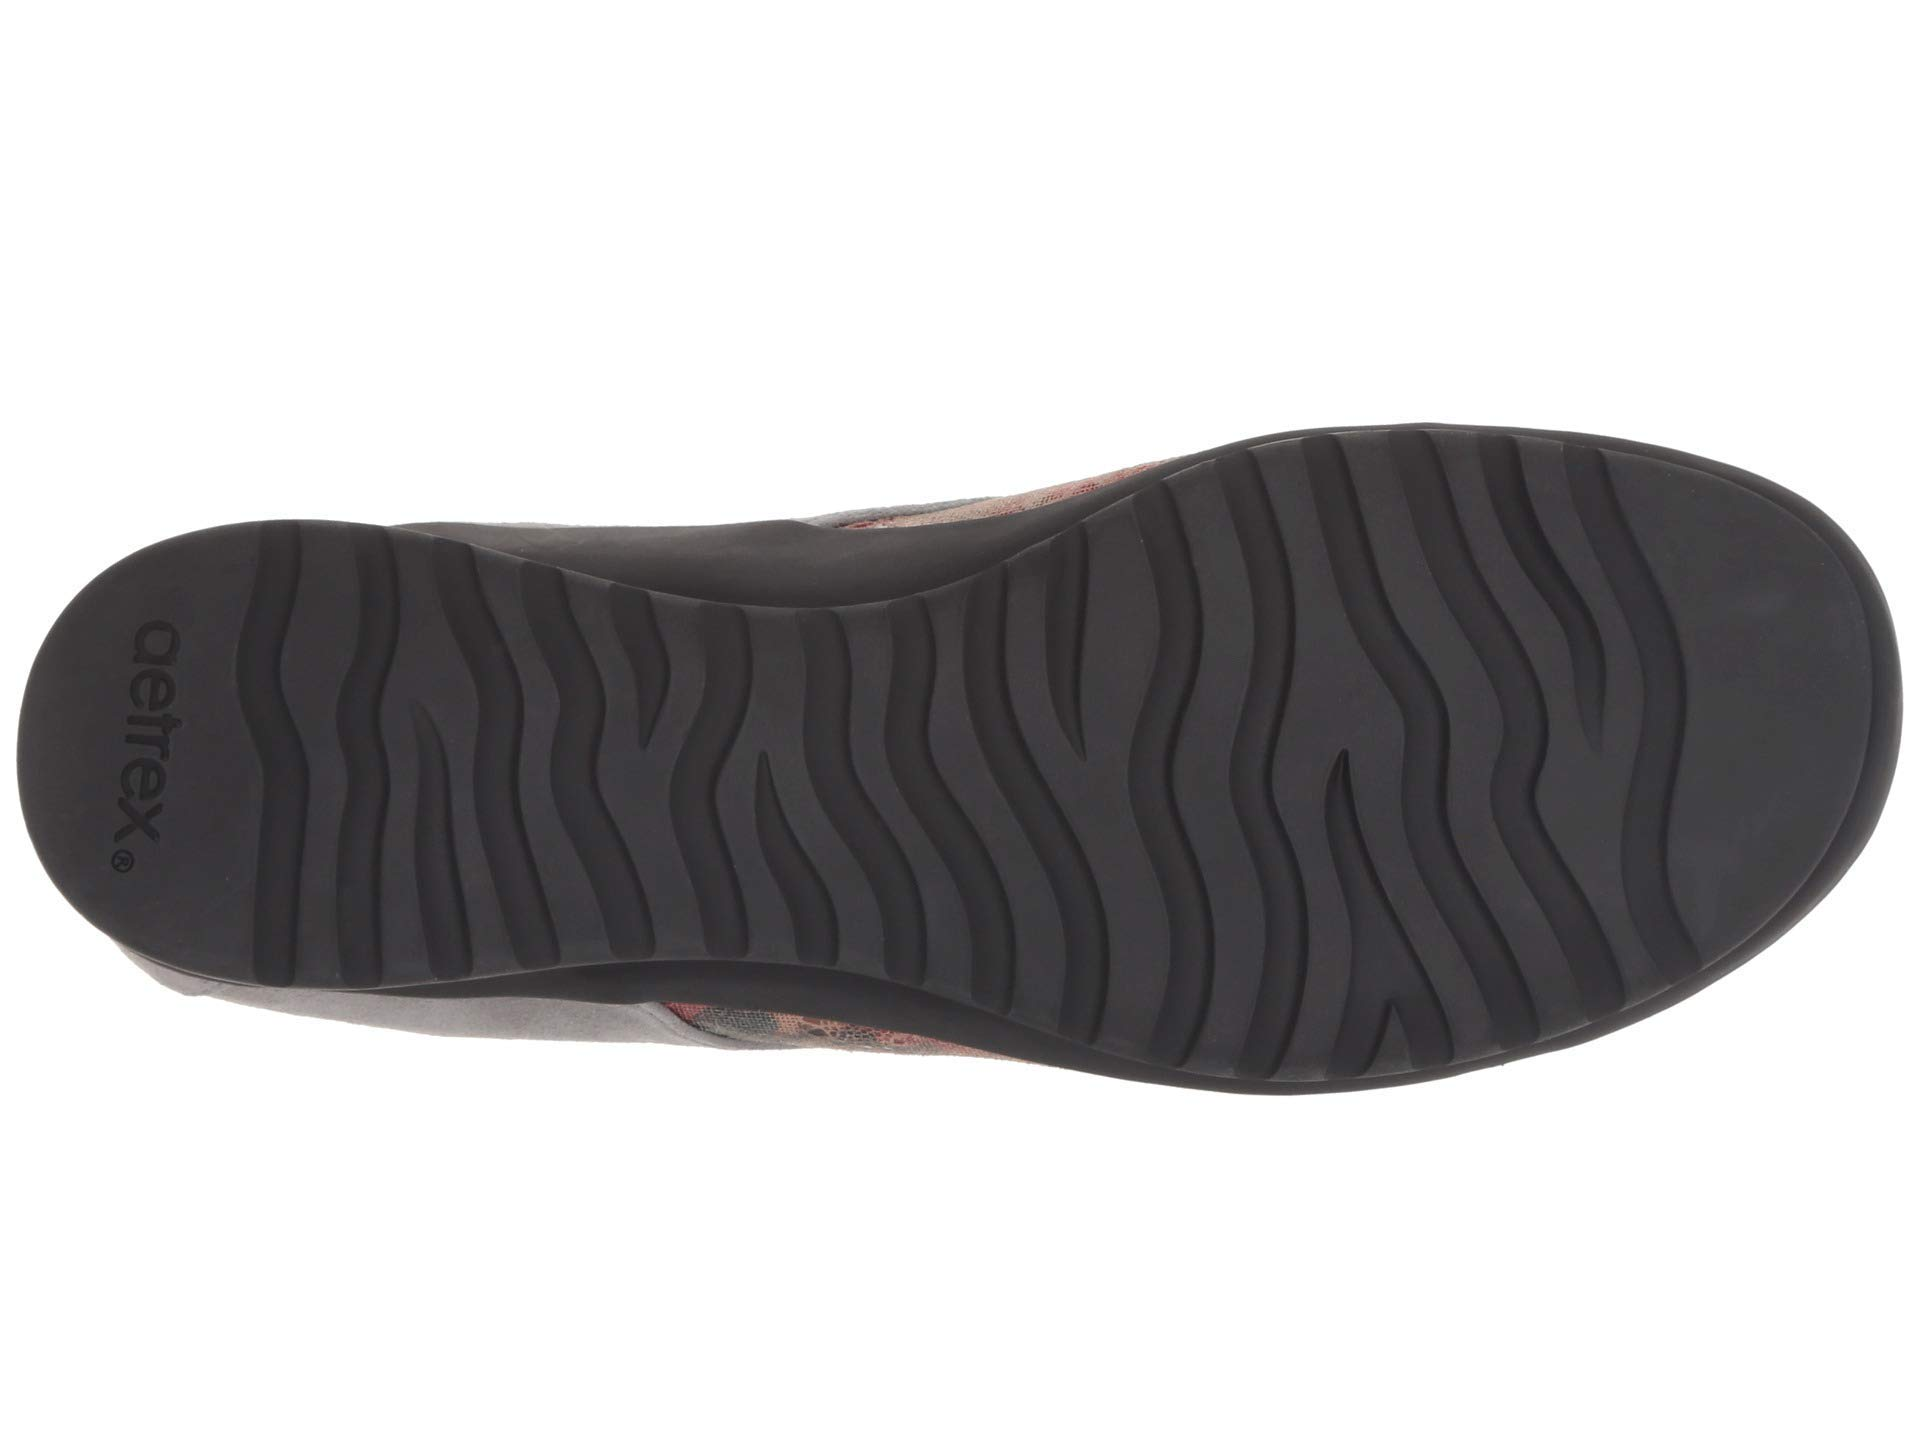chevron: (951, 634, 1433, 1056), (345, 588, 701, 898), (1457, 535, 1785, 847)
circle: (76, 608, 296, 773), (39, 777, 198, 902)
line: (951, 634, 1433, 1056), (345, 588, 701, 898), (1457, 535, 1785, 847), (76, 608, 296, 773)
text: (76, 608, 296, 773), (39, 777, 198, 902)
